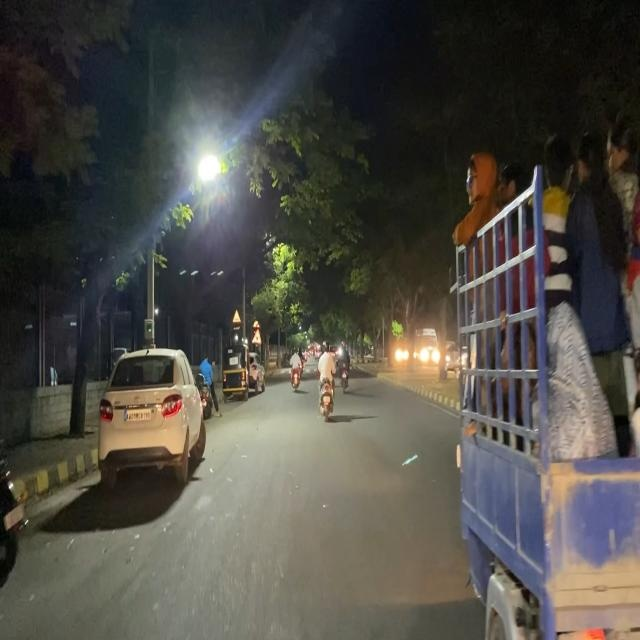bien_nguy_hiem: (253, 327, 262, 346), (233, 310, 241, 324)
